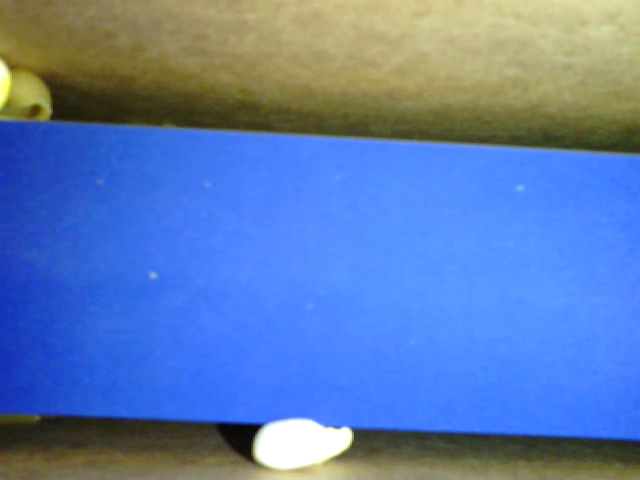shell: (3, 70, 52, 126)
